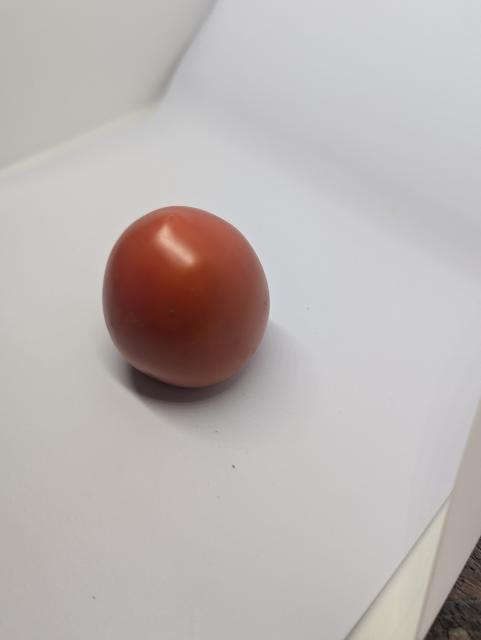red: (92, 195, 289, 406)
